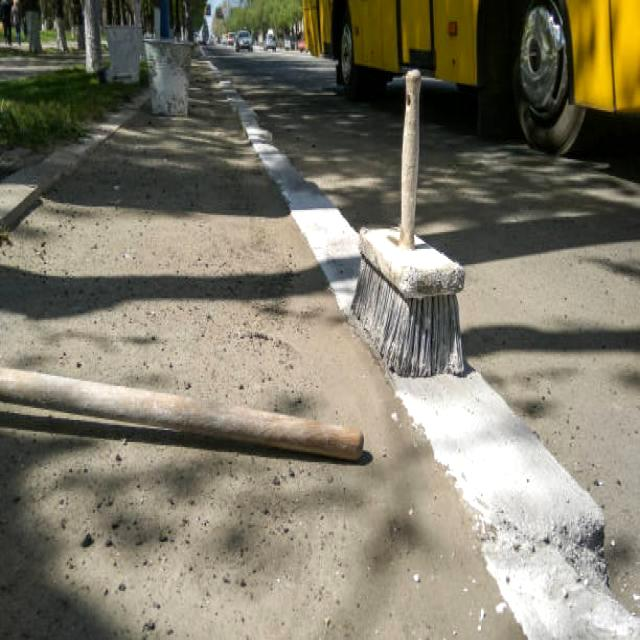Broken Pole: (0, 342, 377, 504)
